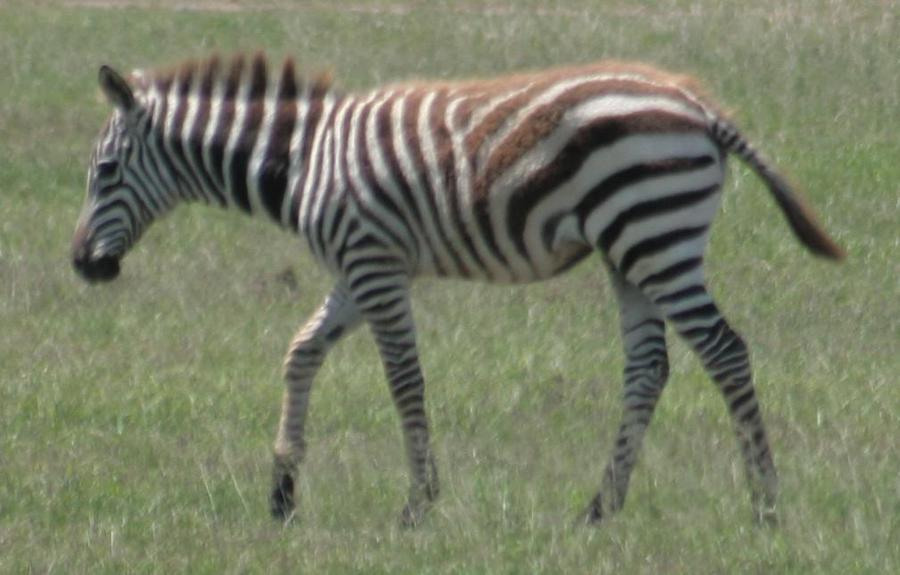zebra_plains: (229, 7, 790, 365)
